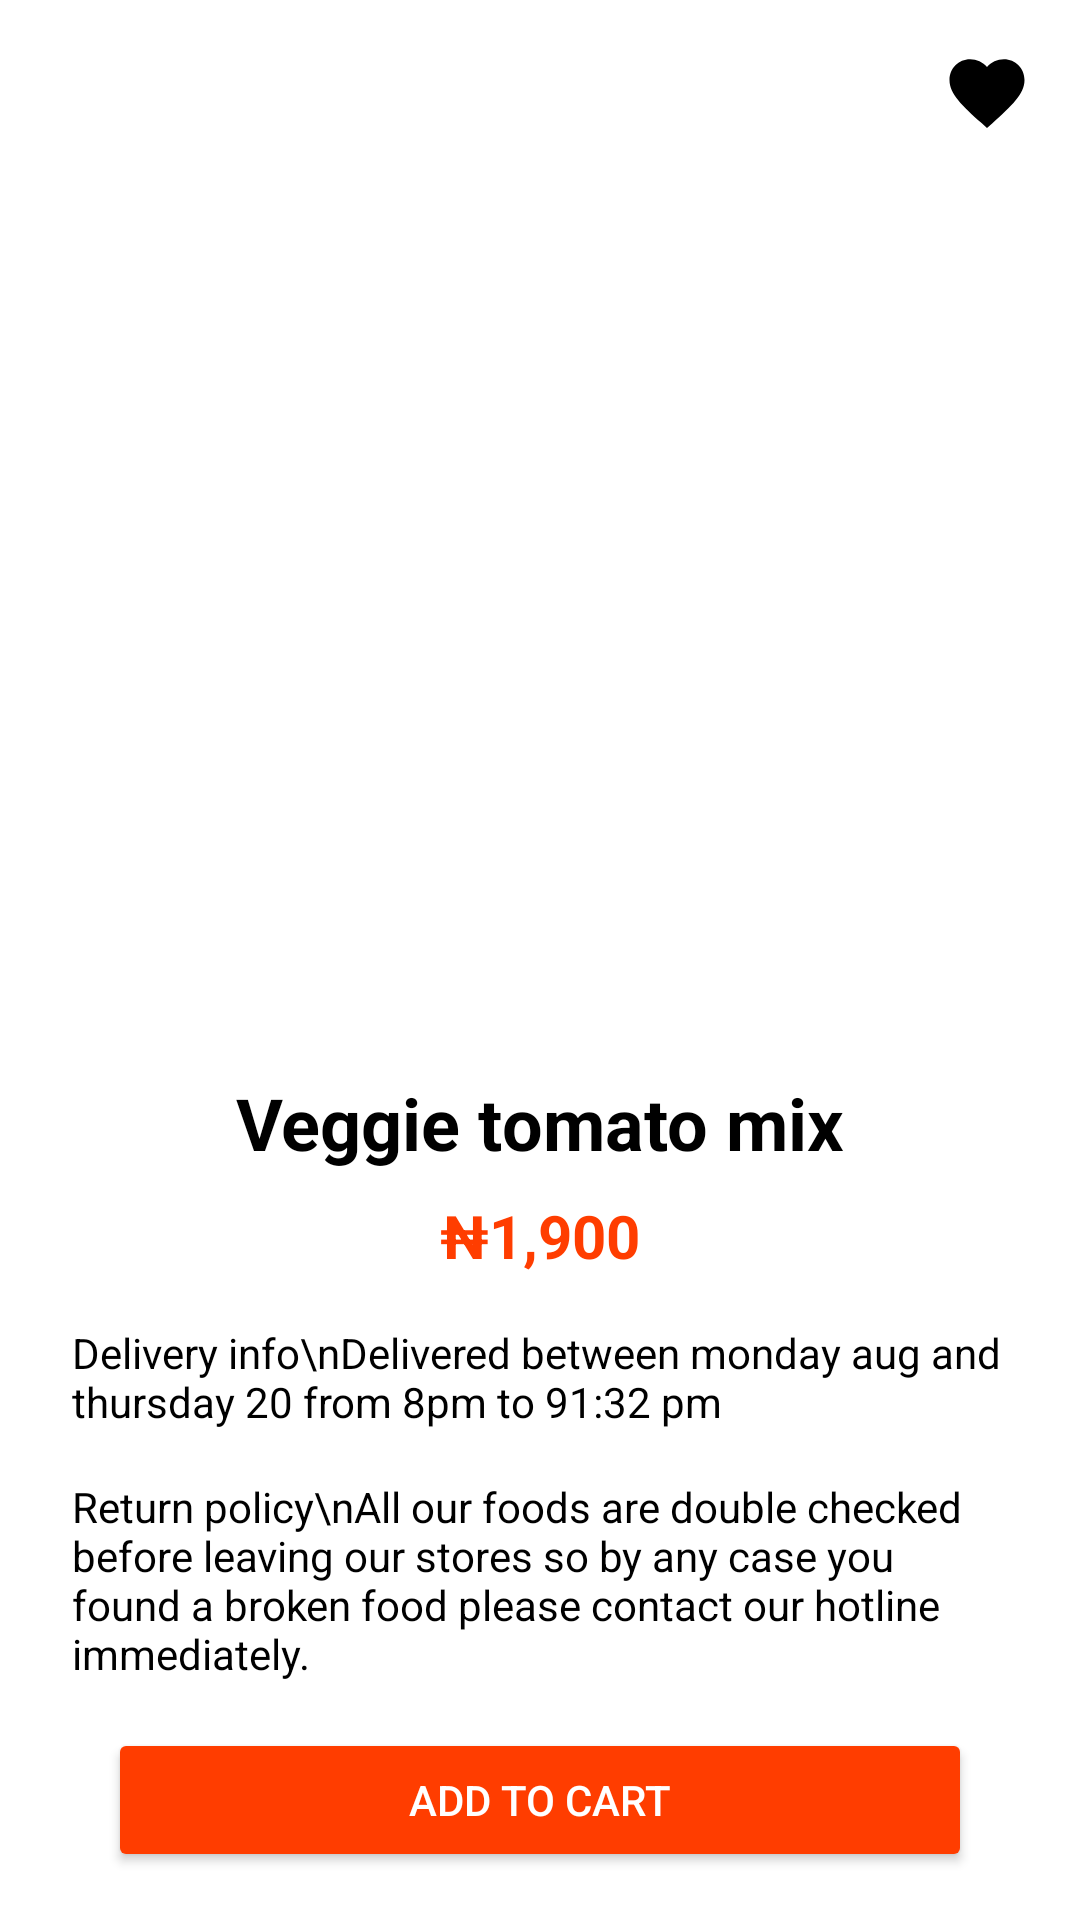

Named icons in this screenshot (1080×1920) and their centers, [x,y]:
favourite: [987,93]
